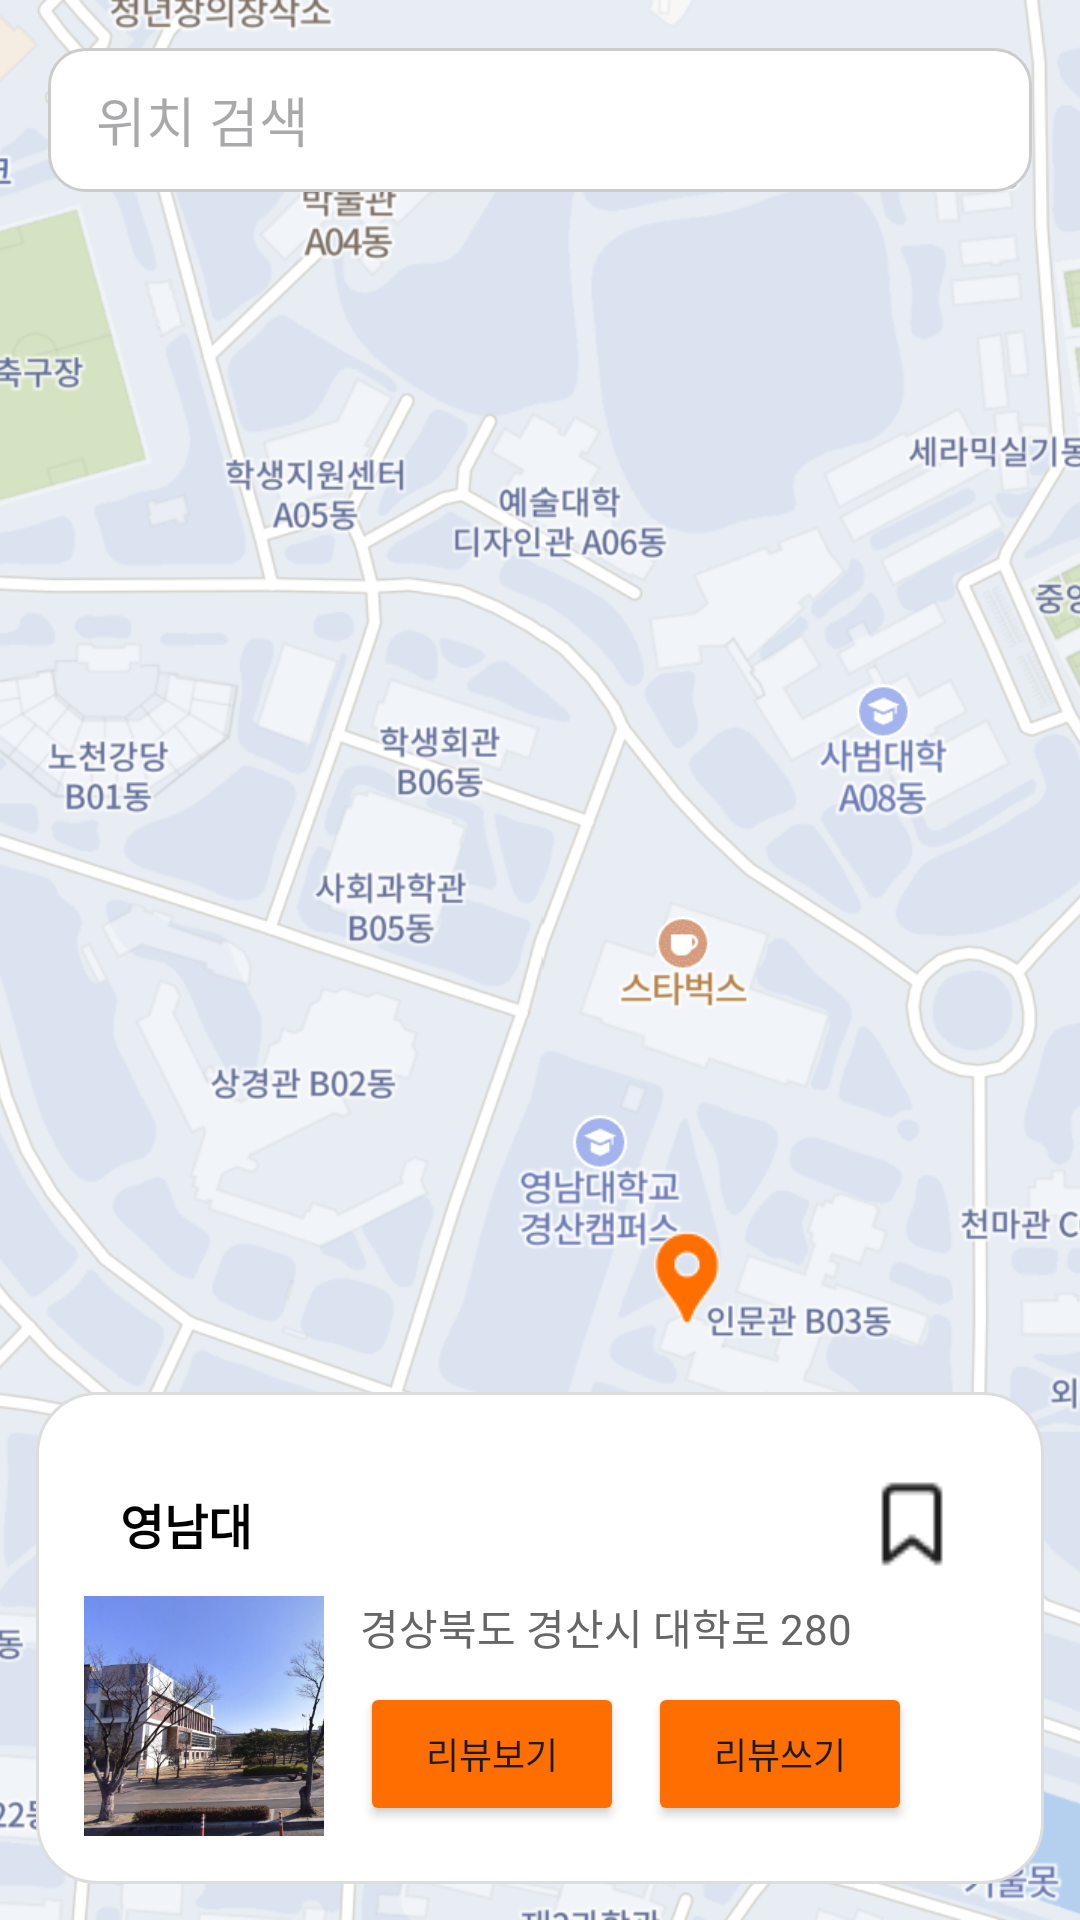

Named icons in this screenshot (1080×1920) and their centers, point (x, y):
marker: point (691, 1279)
북마크 아이콘: point (912, 1524)
